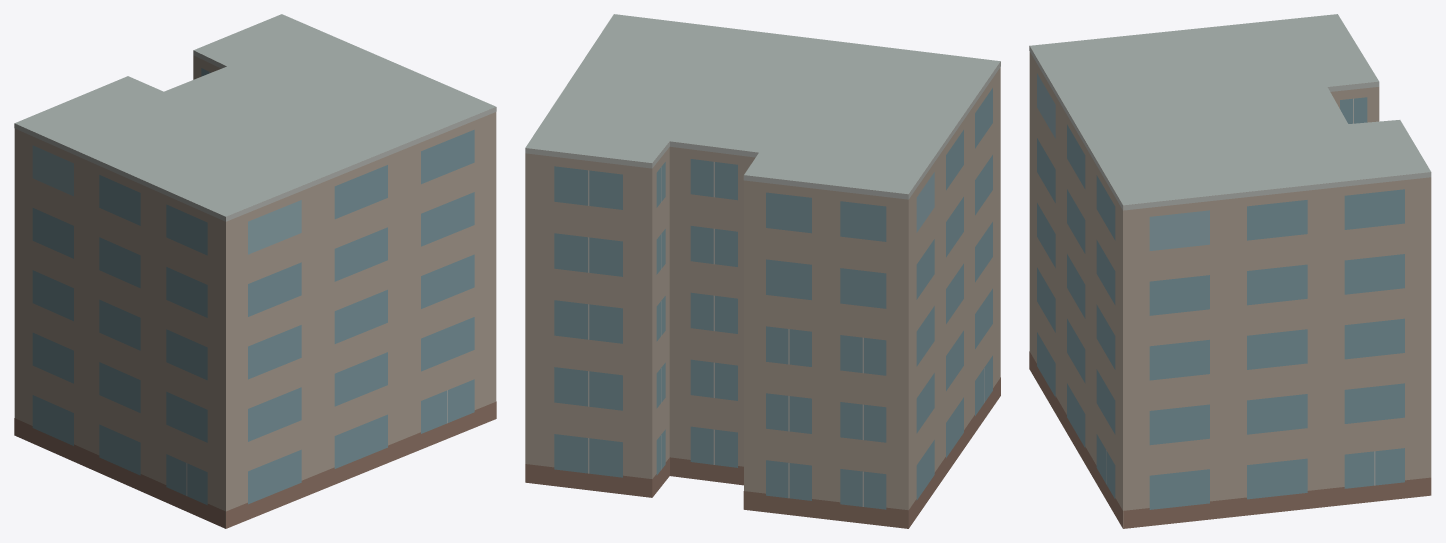
Rendered from survey-upis-32812549.glb.
3 renders of one model, left to right at view 1: azimuth 30°, elevation 25°; view 2: azimuth 150°, elevation 25°; view 3: azimuth 270°, elevation 25°, orthographic. The views are drawn at different scales.
Parts seen in each view (by area): view 1: survey-upis-32812549.tmp; view 2: survey-upis-32812549.tmp; view 3: survey-upis-32812549.tmp.
Boxes of the visible parts, x1=… form: survey-upis-32812549.tmp: x1=14, y1=14, x2=496, y2=528; survey-upis-32812549.tmp: x1=525, y1=14, x2=1000, y2=528; survey-upis-32812549.tmp: x1=1029, y1=14, x2=1431, y2=528.
Bounding box in the file's own units: 19.36 × 15.25 × 17.18.
